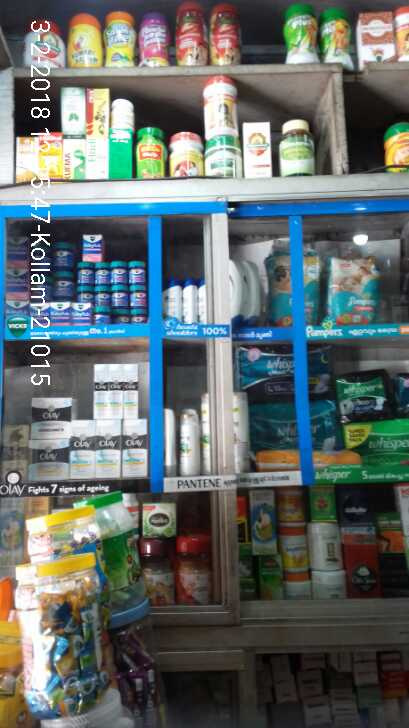vicks: (5, 233, 151, 324)
